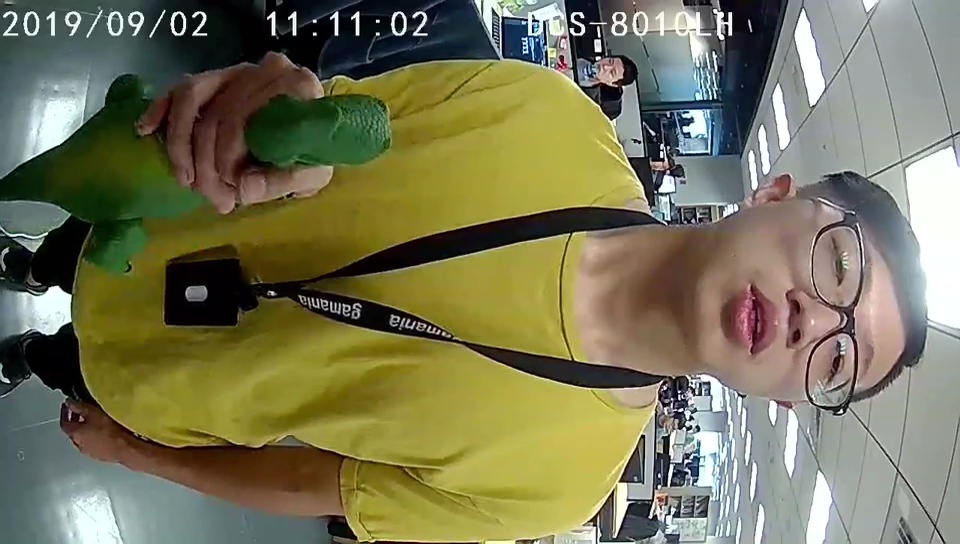rex: (75, 89, 393, 272)
